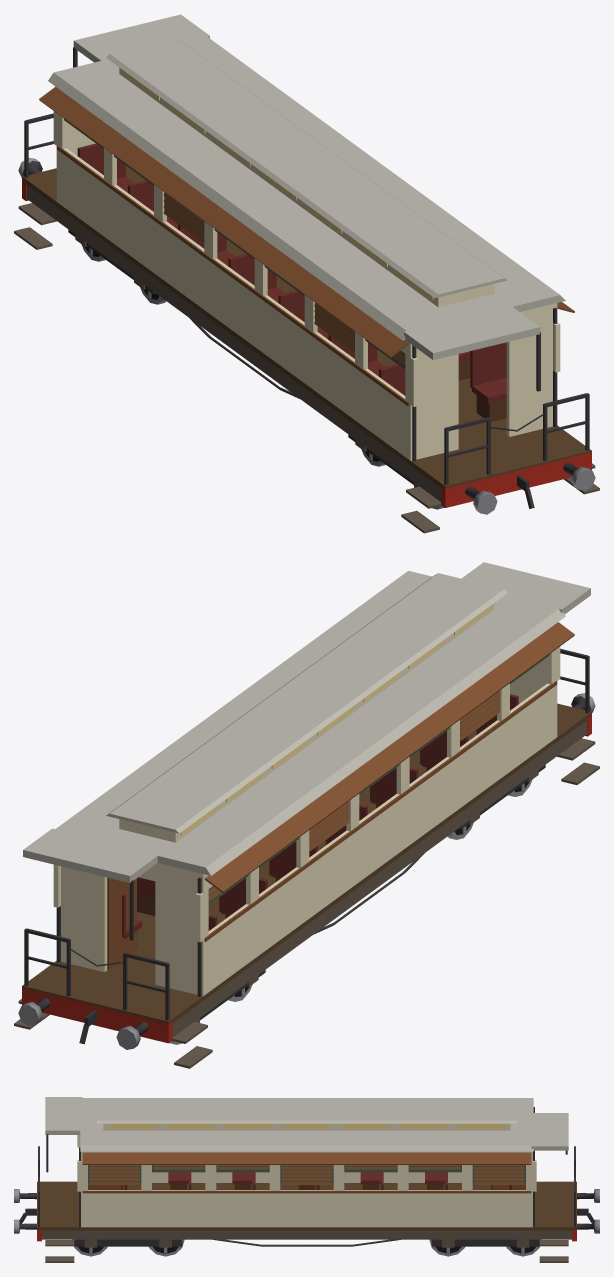
Rendered from carriage.glb.
3 views of the same model, one above another, from view 1: azimuth 30°, elevation 25°; view 2: azimuth 150°, elevation 25°; view 3: azimuth 270°, elevation 25° (orthographic). The views are drawn at different scales.
Parts seen in each view (by area): view 1: Body, Roof; view 2: Body, Roof; view 3: Body, Roof, Wheel2, Wheel3, Wheel1, Wheel4.
Part boxes in pixels (bbox=[...]): Body: bbox=[14, 86, 599, 533]; Roof: bbox=[48, 14, 565, 391]; Body: bbox=[14, 622, 599, 1068]; Roof: bbox=[23, 562, 590, 940]; Body: bbox=[14, 1107, 599, 1262]; Roof: bbox=[45, 1097, 568, 1172]; Wheel2: bbox=[429, 1239, 464, 1256]; Wheel3: bbox=[149, 1239, 184, 1256]; Wheel1: bbox=[506, 1239, 541, 1256]; Wheel4: bbox=[72, 1239, 107, 1256].
Bounding box in the file's own units: 3.28 × 3.5 × 14.1.
